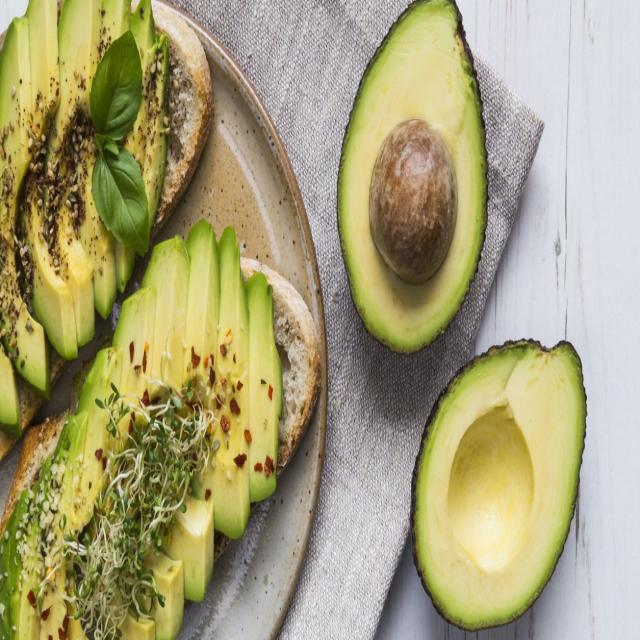aguacate: (332, 1, 493, 357), (410, 330, 591, 627)
